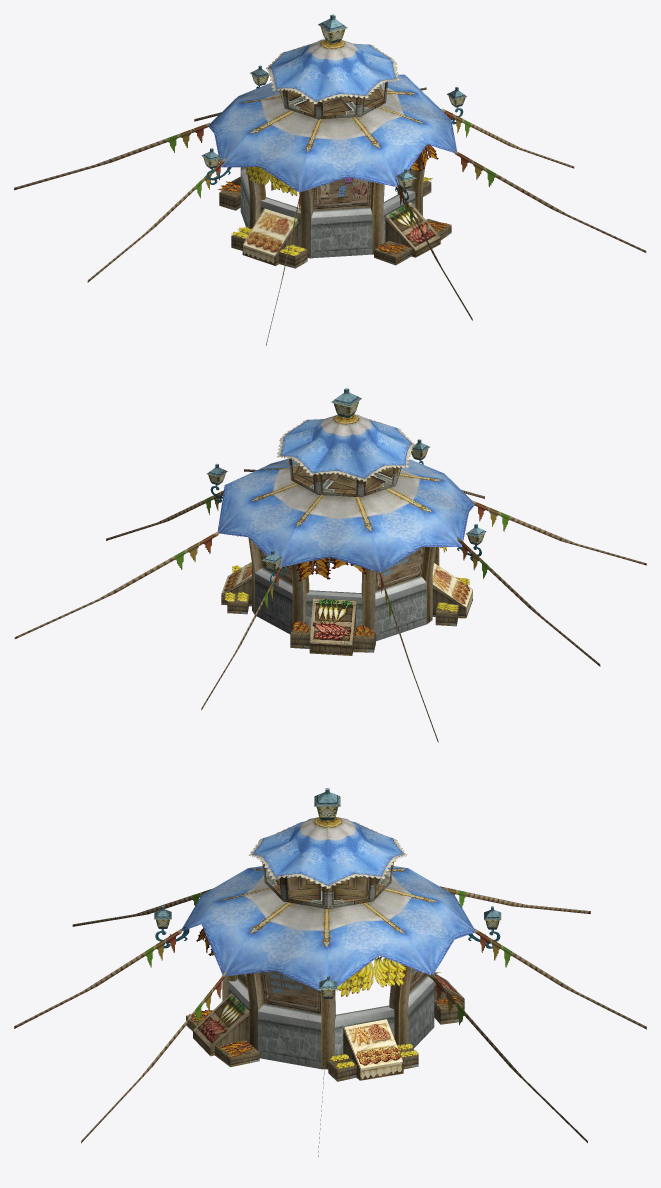
File: nml-bd047.glb
The picture shows the model from 3 angles, top to bottom: view 1: azimuth 30°, elevation 25°; view 2: azimuth 150°, elevation 25°; view 3: azimuth 270°, elevation 25°; orthographic projection. The views are drawn at different scales.
Parts seen in each view (by area): view 1: geom_node_2, geom_node_1, geom_node_3, geom_node_0; view 2: geom_node_3, geom_node_0, geom_node_2, geom_node_1; view 3: geom_node_1, geom_node_0, geom_node_3, geom_node_2.
Part boxes in pixels (left/top/right/bottom): geom_node_2: left=221, top=27, right=396, bottom=345; geom_node_1: left=318, top=14, right=646, bottom=320; geom_node_3: left=14, top=39, right=327, bottom=282; geom_node_0: left=194, top=39, right=574, bottom=196; geom_node_3: left=279, top=417, right=600, bottom=742; geom_node_0: left=14, top=415, right=343, bottom=710; geom_node_2: left=333, top=401, right=646, bottom=626; geom_node_1: left=244, top=388, right=484, bottom=568; geom_node_1: left=14, top=788, right=340, bottom=1143; geom_node_0: left=318, top=818, right=646, bottom=1156; geom_node_3: left=335, top=817, right=590, bottom=1024; geom_node_2: left=72, top=807, right=338, bottom=987.
Size of the model in its own units: 17.88 by 7.94 by 17.73.
Materials: 8 (8 with a texture image).
